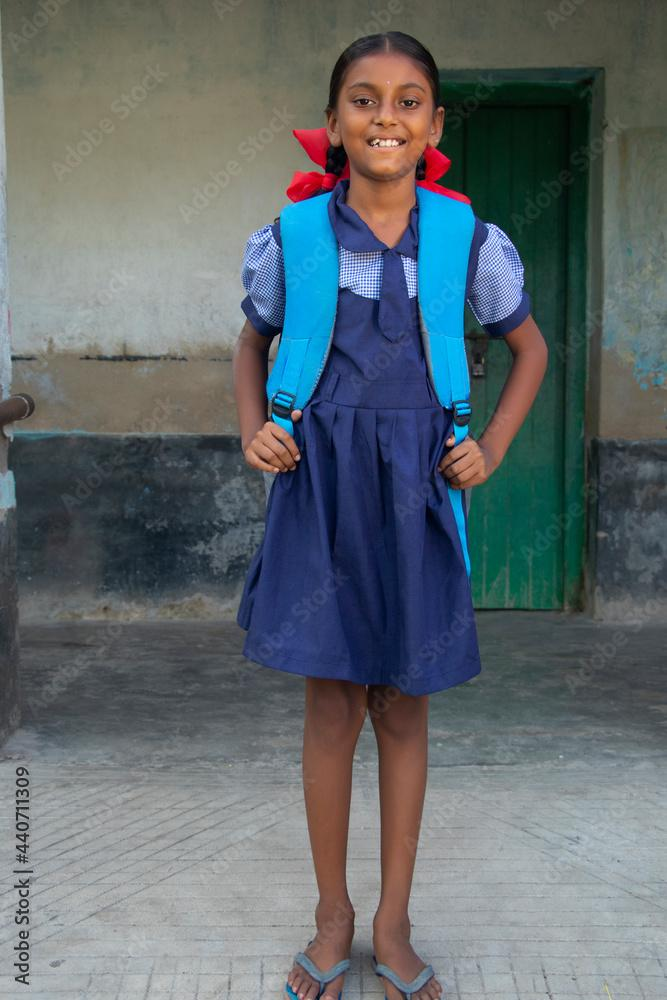Human: (191, 18, 588, 1000)
